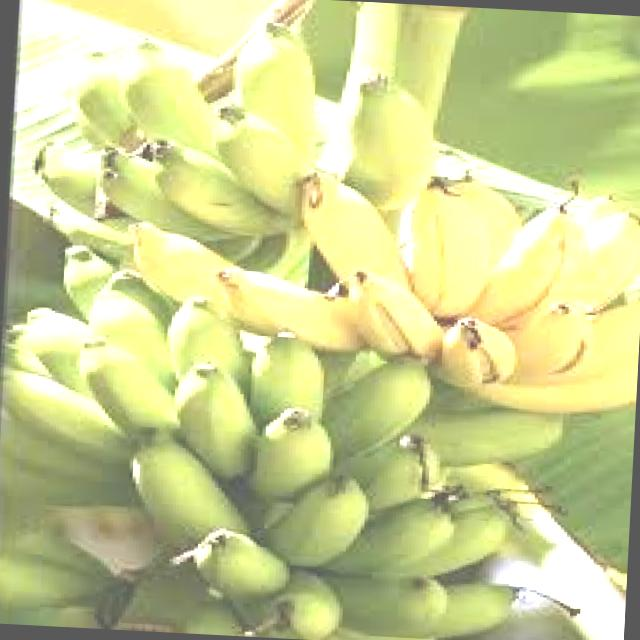Banana: (0, 246, 575, 640), (128, 164, 640, 419), (32, 11, 438, 252)
